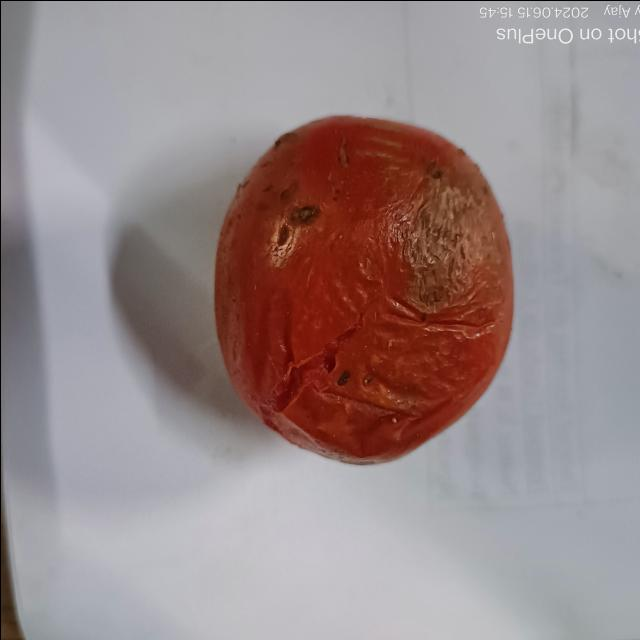Botrytis: (268, 316, 360, 425), (270, 198, 318, 246)
